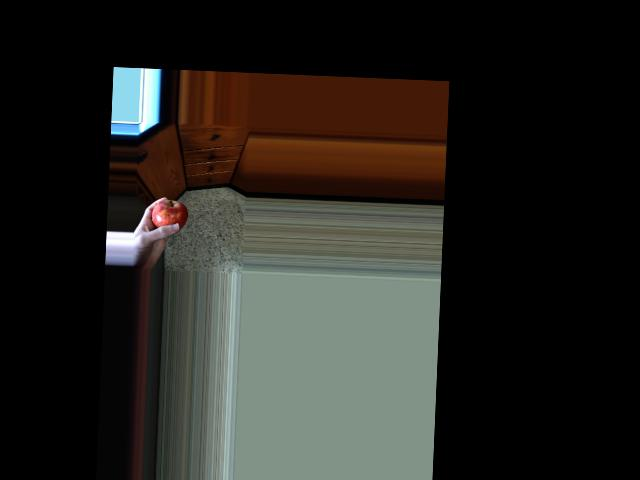apple: (146, 196, 188, 238)
